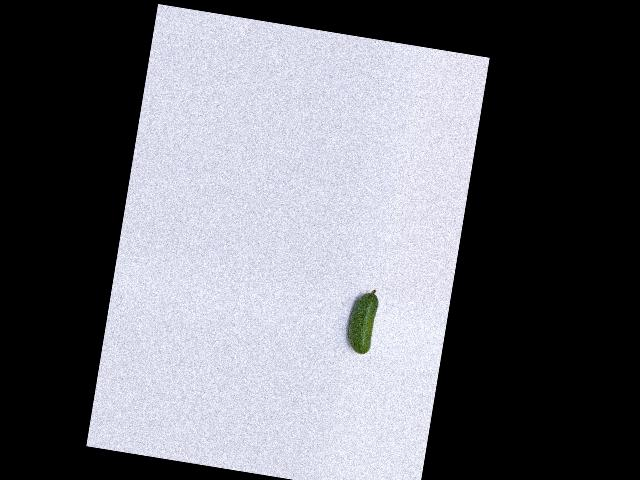cucumber: (344, 286, 380, 355)
